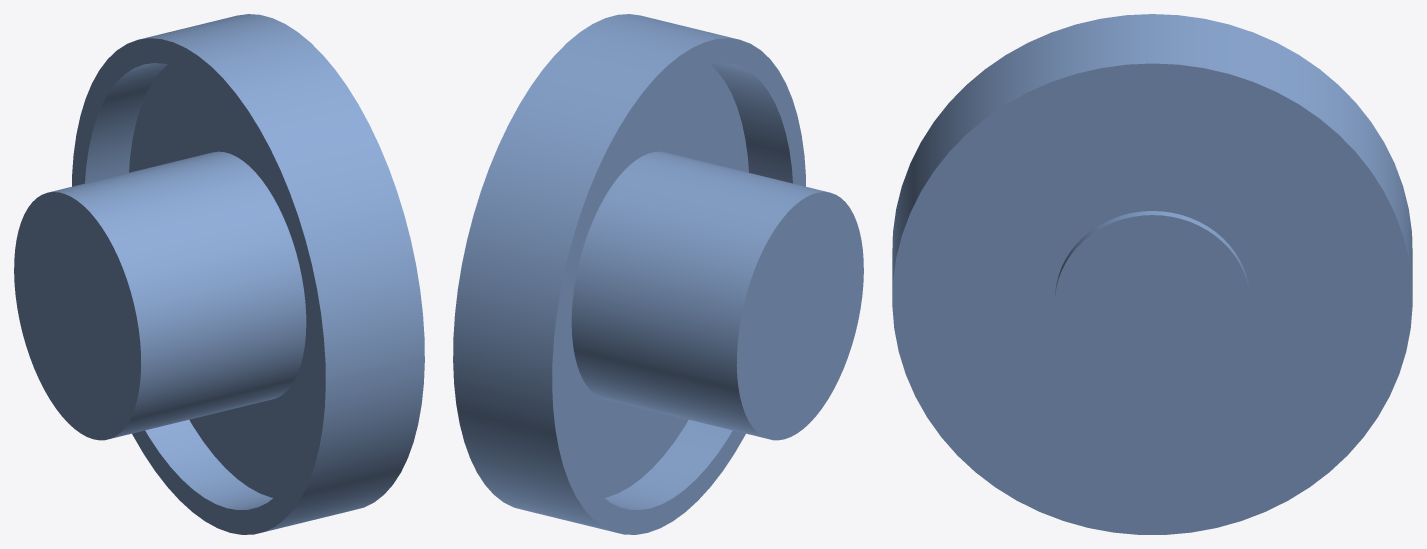
Rendered from step_03.glb.
3 renders of one model, left to right at view 1: azimuth 30°, elevation 25°; view 2: azimuth 150°, elevation 25°; view 3: azimuth 270°, elevation 25°, orthographic. The views are drawn at different scales.
Visible parts, largest first — view 1: part__flange A (spigot); view 2: part__flange A (spigot); view 3: part__flange A (spigot).
Boxes of the visible parts, x1,y1,x2,y2 form: part__flange A (spigot): (14, 14, 424, 534); part__flange A (spigot): (453, 14, 863, 534); part__flange A (spigot): (892, 14, 1412, 534).
Size of the model in its own units: 83 by 160 by 160.
